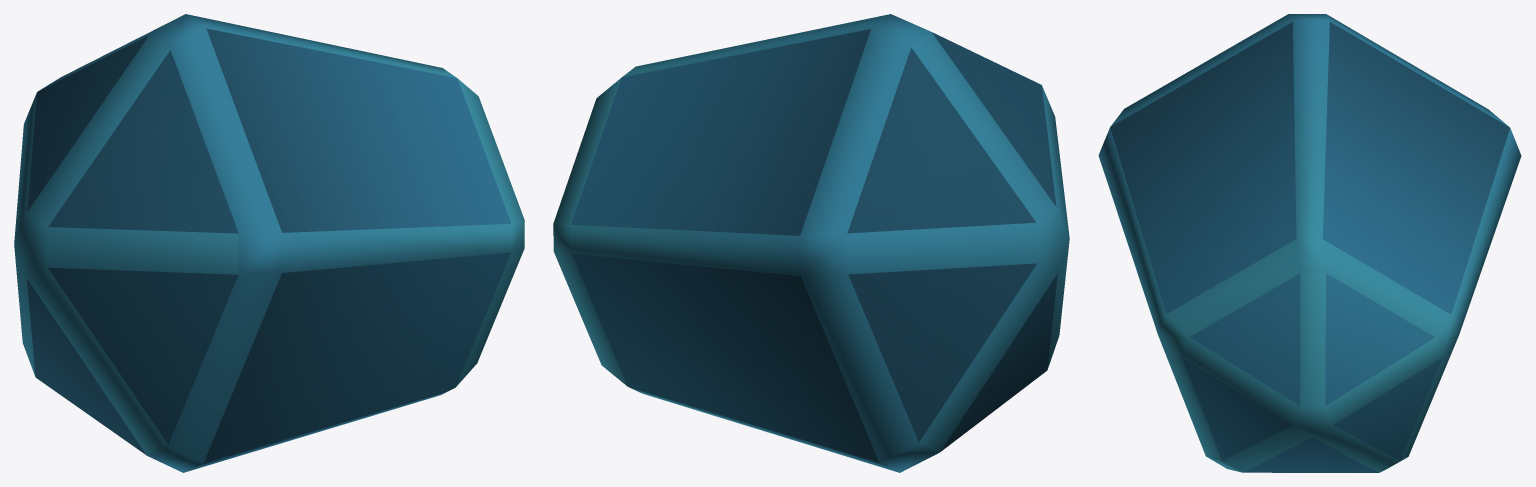
The model's file is christal_saphire_8.fbx.
3 renders of one model, left to right at view 1: azimuth 30°, elevation 25°; view 2: azimuth 150°, elevation 25°; view 3: azimuth 270°, elevation 25°, orthographic. The views are drawn at different scales.
Visible parts, largest first — view 1: christal_saphire_8; view 2: christal_saphire_8; view 3: christal_saphire_8.
Part boxes in pixels (bbox=[...]): christal_saphire_8: bbox=[14, 14, 524, 472]; christal_saphire_8: bbox=[553, 14, 1069, 472]; christal_saphire_8: bbox=[1098, 14, 1521, 472].
Size of the model in its own units: 34.31 by 26.15 by 27.94.
1 material, 1 textured.
